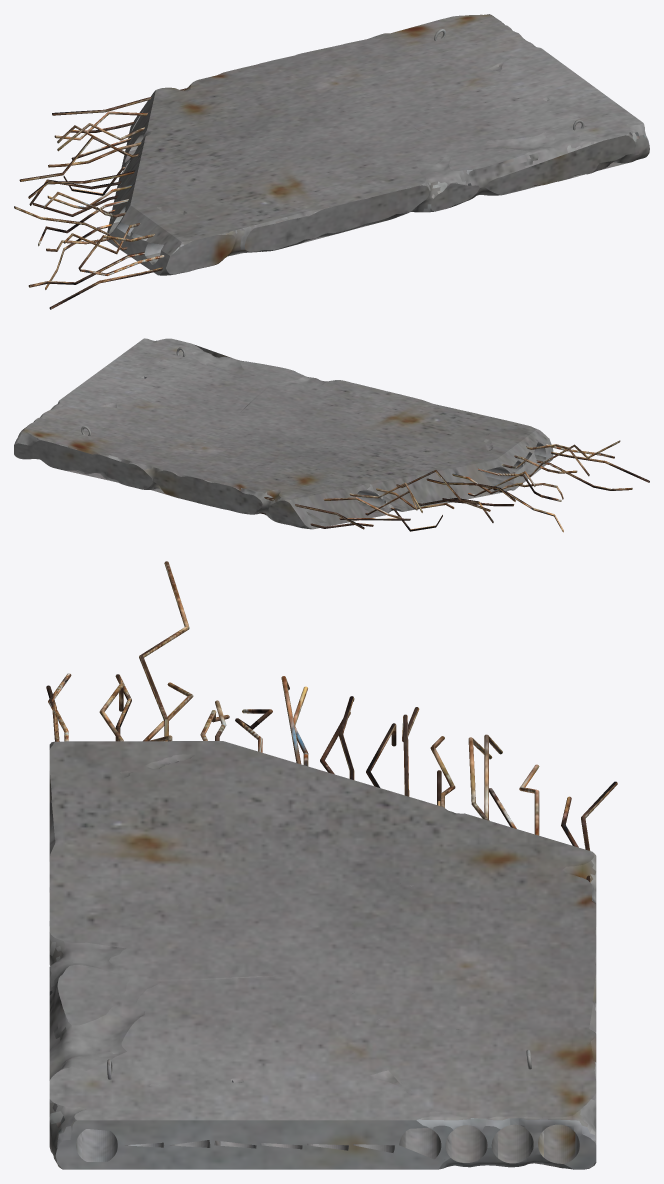
Rendered from plita_bet3_003.fbx.
3 renders of one model, top to bottom at view 1: azimuth 30°, elevation 25°; view 2: azimuth 150°, elevation 25°; view 3: azimuth 270°, elevation 25°, orthographic. The views are drawn at different scales.
Visible parts, largest first — view 1: plita_bet_002_6; view 2: plita_bet_002_6; view 3: plita_bet_002_6.
Boxes of the visible parts, x1,y1,x2,y2 form: plita_bet_002_6: (14, 14, 649, 309); plita_bet_002_6: (14, 338, 649, 532); plita_bet_002_6: (46, 561, 617, 1169).
Bounding box in the file's own units: 505 × 88.02 × 251.
2 materials, 2 textured.
